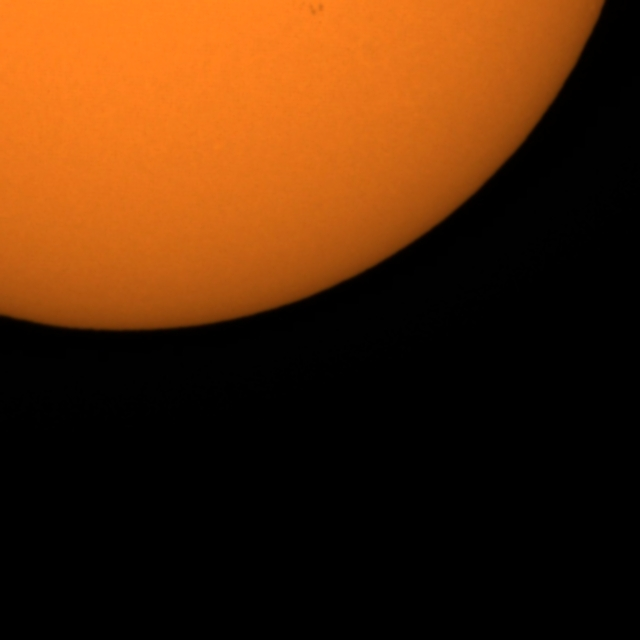sunspot: (306, 0, 328, 20)
